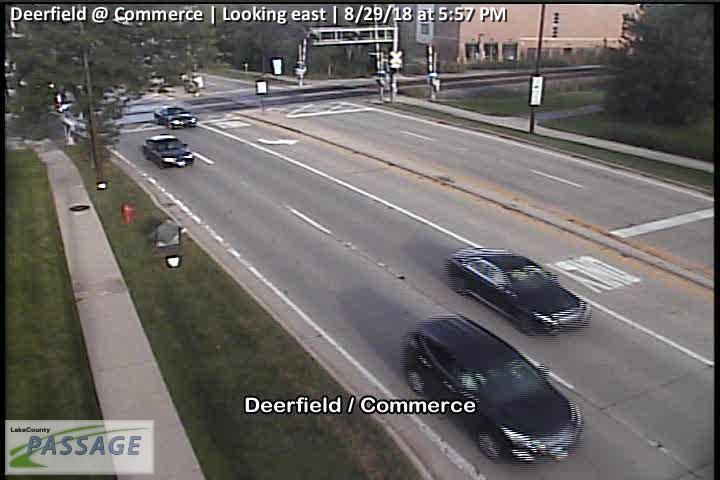SUV: (401, 312, 583, 463), (448, 246, 592, 333)
Sedan: (143, 135, 194, 169), (154, 105, 197, 127)
